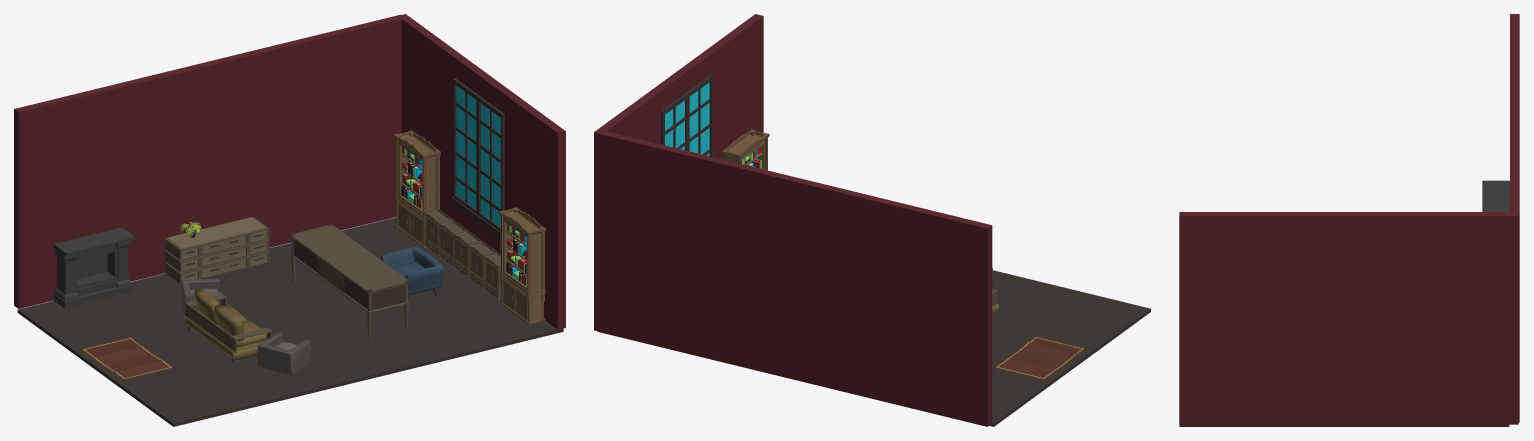
The model's file is office.fbx.
3 renders of one model, left to right at view 1: azimuth 30°, elevation 25°; view 2: azimuth 150°, elevation 25°; view 3: azimuth 270°, elevation 25°, orthographic. The views are drawn at different scales.
Visible parts, largest first — view 1: Wall.020, Cube.005, Wall.018, Window_Large2, Desk, Fireplace, Drawer_3, BookCase_Single.058, BookCase_Single, Couch_Medium2, Carpet_1.002, Couch_Small1 (+7 smaller); view 2: Wall.020, Cube.005, Wall.018, Window_Large2, Carpet_1.002, BookCase_Single.058; view 3: Wall.018, Wall.020, Cube.005, Fireplace.
Boxes of the visible parts, bbox=[...] form: Wall.020: bbox=[14, 14, 405, 308]; Cube.005: bbox=[17, 217, 563, 426]; Wall.018: bbox=[401, 14, 565, 329]; Window_Large2: bbox=[451, 78, 504, 238]; Desk: bbox=[289, 224, 410, 338]; Fireplace: bbox=[53, 227, 135, 308]; Drawer_3: bbox=[165, 217, 269, 283]; BookCase_Single.058: bbox=[499, 207, 545, 324]; BookCase_Single: bbox=[394, 130, 440, 248]; Couch_Medium2: bbox=[184, 288, 272, 362]; Carpet_1.002: bbox=[81, 336, 173, 379]; Couch_Small1: bbox=[381, 246, 443, 301]; Wall.020: bbox=[597, 130, 992, 426]; Cube.005: bbox=[989, 270, 1150, 426]; Wall.018: bbox=[594, 14, 763, 330]; Window_Large2: bbox=[660, 75, 712, 156]; Carpet_1.002: bbox=[994, 336, 1085, 379]; BookCase_Single.058: bbox=[722, 129, 769, 170]; Wall.018: bbox=[1179, 212, 1518, 424]; Wall.020: bbox=[1510, 14, 1519, 422]; Cube.005: bbox=[1179, 424, 1509, 426]; Fireplace: bbox=[1482, 180, 1509, 211].
Size of the model in its own units: 2388 by 1163 by 1694.
